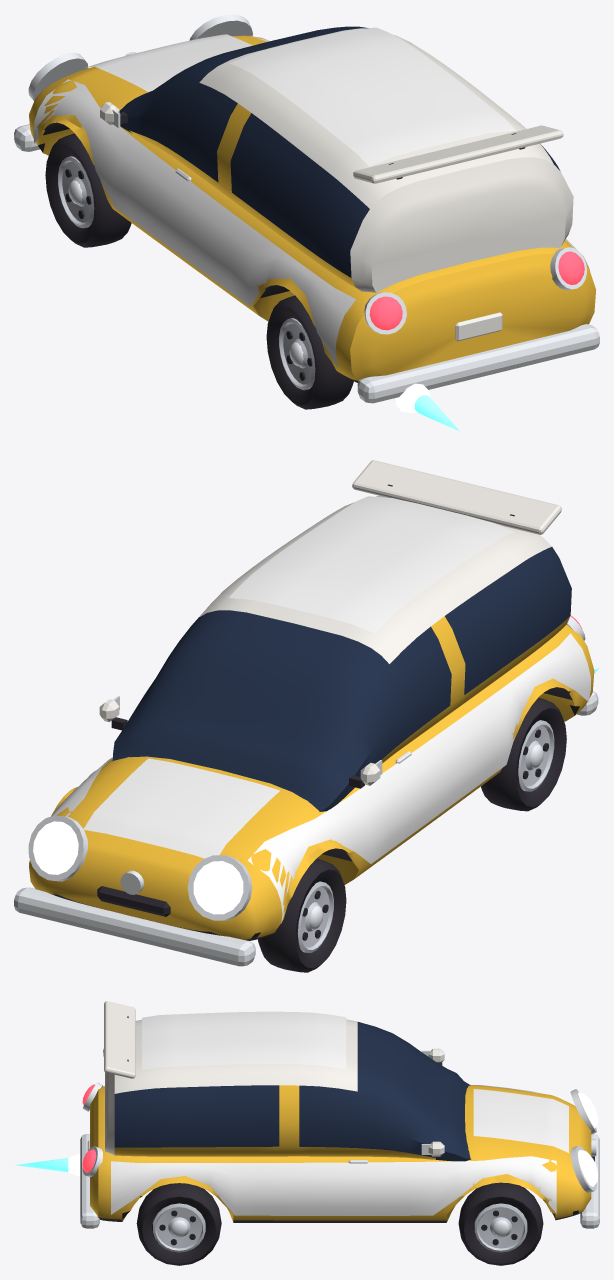
Rendered from car_hatch.glb.
3 views of the same model, one above another, from view 1: azimuth 30°, elevation 25°; view 2: azimuth 150°, elevation 25°; view 3: azimuth 270°, elevation 25° (orthographic). The views are drawn at different scales.
Visible parts, largest first — view 1: Body, Vinyl, WheelRL, WheelFL, Spoiler, NitroFlame; view 2: Body, Vinyl, Spoiler, WheelFL, WheelRL; view 3: Body, Vinyl, WheelFR, WheelRR, Spoiler, NitroFlame.
Part boxes in pixels (bbox=[...]): Body: bbox=[14, 14, 599, 403]; Vinyl: bbox=[33, 27, 589, 367]; WheelRL: bbox=[266, 295, 353, 409]; WheelFL: bbox=[45, 133, 131, 247]; Spoiler: bbox=[353, 125, 563, 183]; NitroFlame: bbox=[396, 383, 459, 431]; Body: bbox=[14, 496, 598, 966]; Vinyl: bbox=[51, 496, 590, 923]; Spoiler: bbox=[352, 460, 561, 534]; WheelFL: bbox=[258, 858, 346, 972]; WheelRL: bbox=[481, 697, 566, 811]; Body: bbox=[80, 1019, 599, 1228]; Vinyl: bbox=[111, 1011, 568, 1215]; WheelFR: bbox=[458, 1182, 543, 1265]; WheelRR: bbox=[136, 1183, 221, 1265]; Spoiler: bbox=[104, 1001, 135, 1078]; NitroFlame: bbox=[14, 1153, 80, 1176].
Size of the model in its own units: 1.88 by 1.69 by 4.73.
